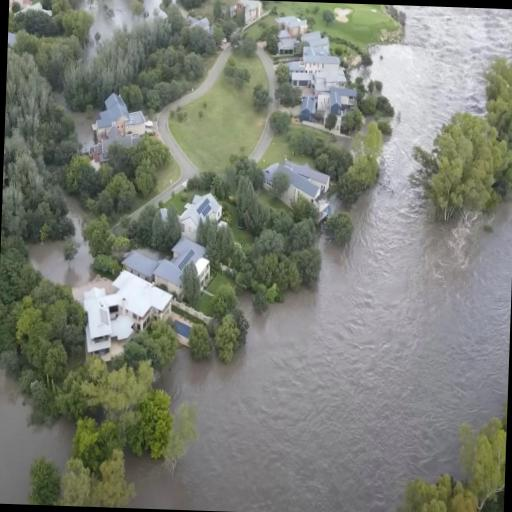flood: (125, 5, 512, 512), (0, 373, 71, 504), (26, 193, 94, 285), (80, 0, 136, 56), (67, 106, 97, 148)
house: (108, 268, 172, 342), (89, 88, 149, 163), (264, 158, 332, 216), (284, 49, 351, 96), (298, 84, 358, 132), (166, 236, 211, 294), (79, 282, 113, 358), (177, 190, 223, 242), (122, 245, 156, 286), (272, 14, 308, 43), (233, 0, 263, 28), (8, 0, 23, 11)
